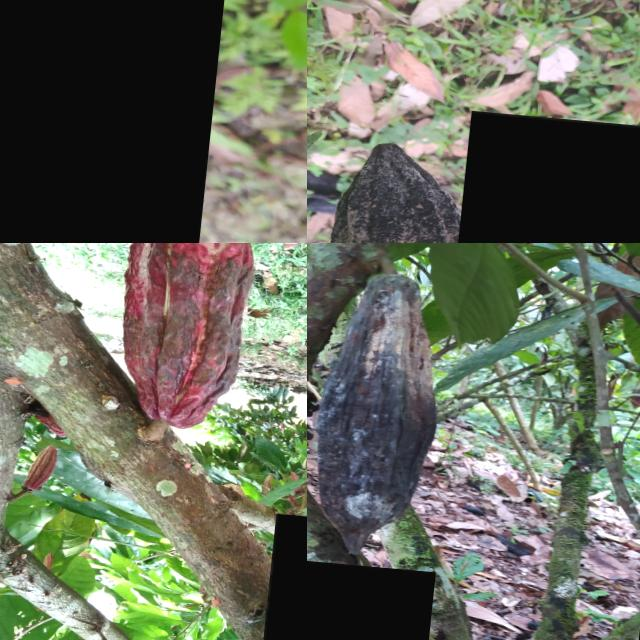Fitoftora: (0, 0, 232, 243), (311, 262, 454, 555), (119, 243, 270, 430), (443, 105, 640, 243), (318, 135, 513, 243), (272, 506, 307, 640)
Monilia: (307, 554, 444, 640)
Sana: (22, 441, 69, 490)
